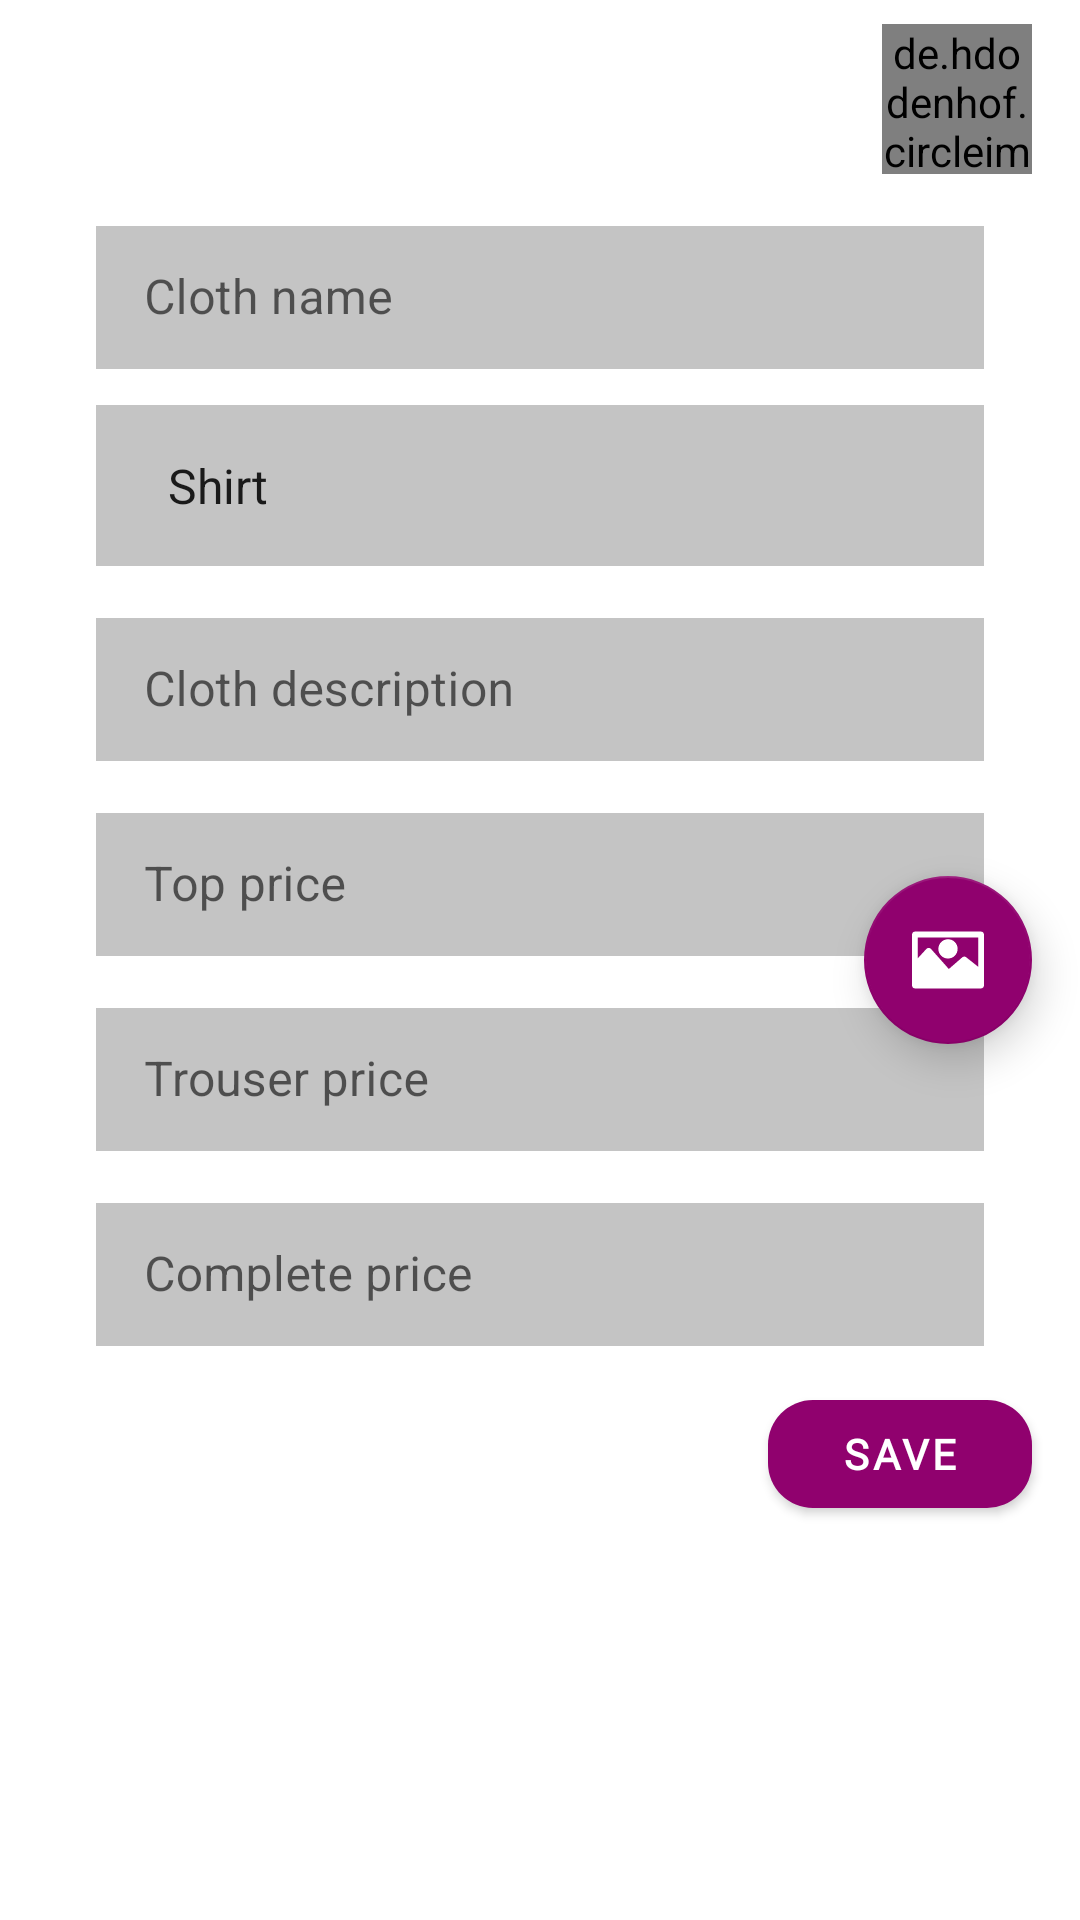

Screen size 1080×1920. Icon name, then its center in pixels as [x,y]:
gallery: [948,960]
